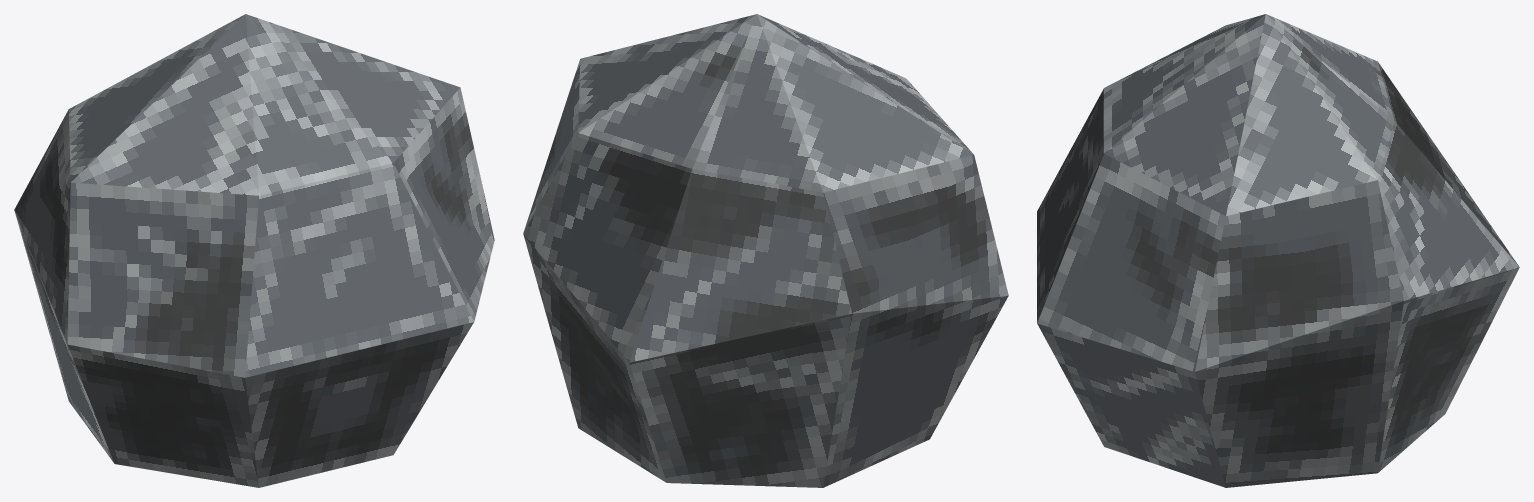
Rendered from Rook.gltf.
The picture shows the model from 3 angles, left to right: view 1: azimuth 30°, elevation 25°; view 2: azimuth 150°, elevation 25°; view 3: azimuth 270°, elevation 25°; orthographic projection.
Parts seen in each view (by area): view 1: sphere; view 2: sphere; view 3: sphere.
Part boxes in pixels (left/top/right/bottom): sphere: left=14, top=14, right=494, bottom=487; sphere: left=523, top=14, right=1008, bottom=487; sphere: left=1037, top=14, right=1519, bottom=487.
Bounding box in the file's own units: 0.6087 × 0.5625 × 0.5934.
1 material, 1 textured.
